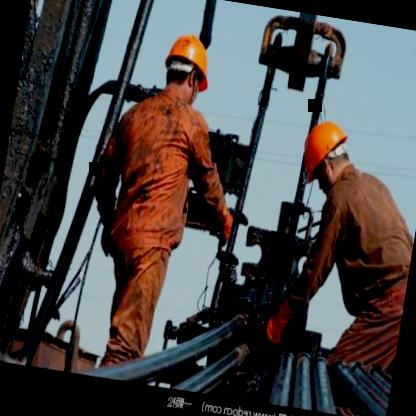helmet: (292, 109, 364, 196), (154, 27, 220, 119)
